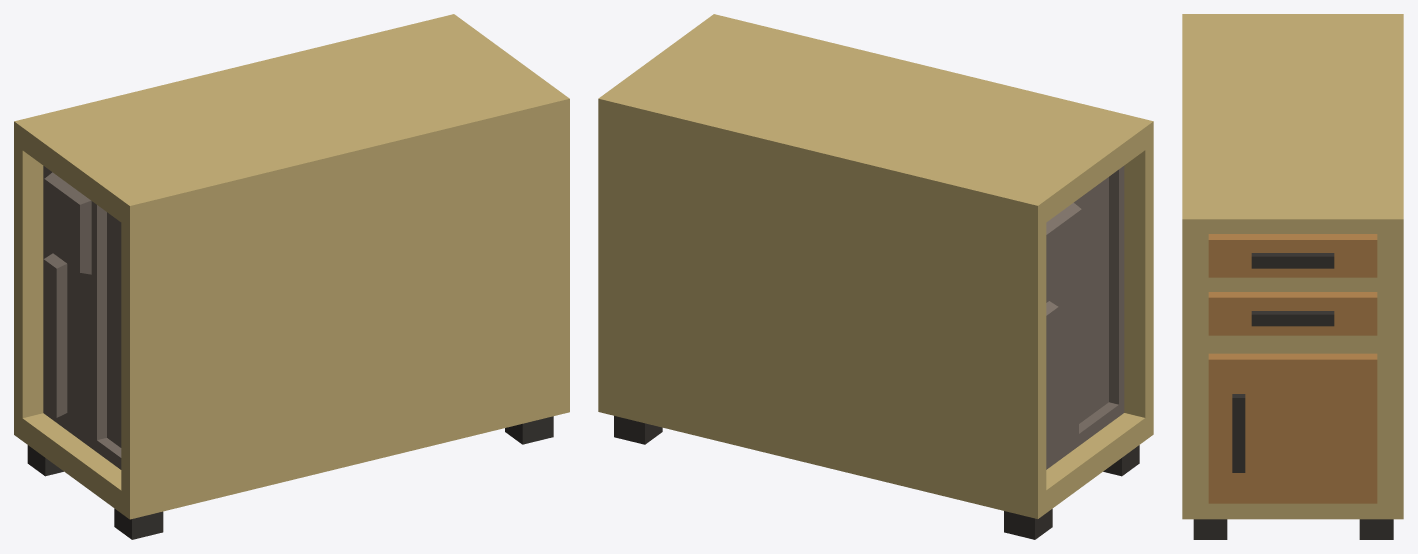
Rendered from SM_Computer_01.glb.
3 views of the same model, side by side, from view 1: azimuth 30°, elevation 25°; view 2: azimuth 150°, elevation 25°; view 3: azimuth 270°, elevation 25° (orthographic). The views are drawn at different scales.
Parts seen in each view (by area): view 1: SM_Computer_01; view 2: SM_Computer_01; view 3: SM_Computer_01.
Boxes of the visible parts, bbox=[...] form: SM_Computer_01: bbox=[14, 14, 569, 539]; SM_Computer_01: bbox=[598, 14, 1153, 539]; SM_Computer_01: bbox=[1182, 14, 1403, 539].
Size of the model in its own units: 0.8505 by 0.6001 by 0.37.
Materials: 1 (1 with a texture image).
